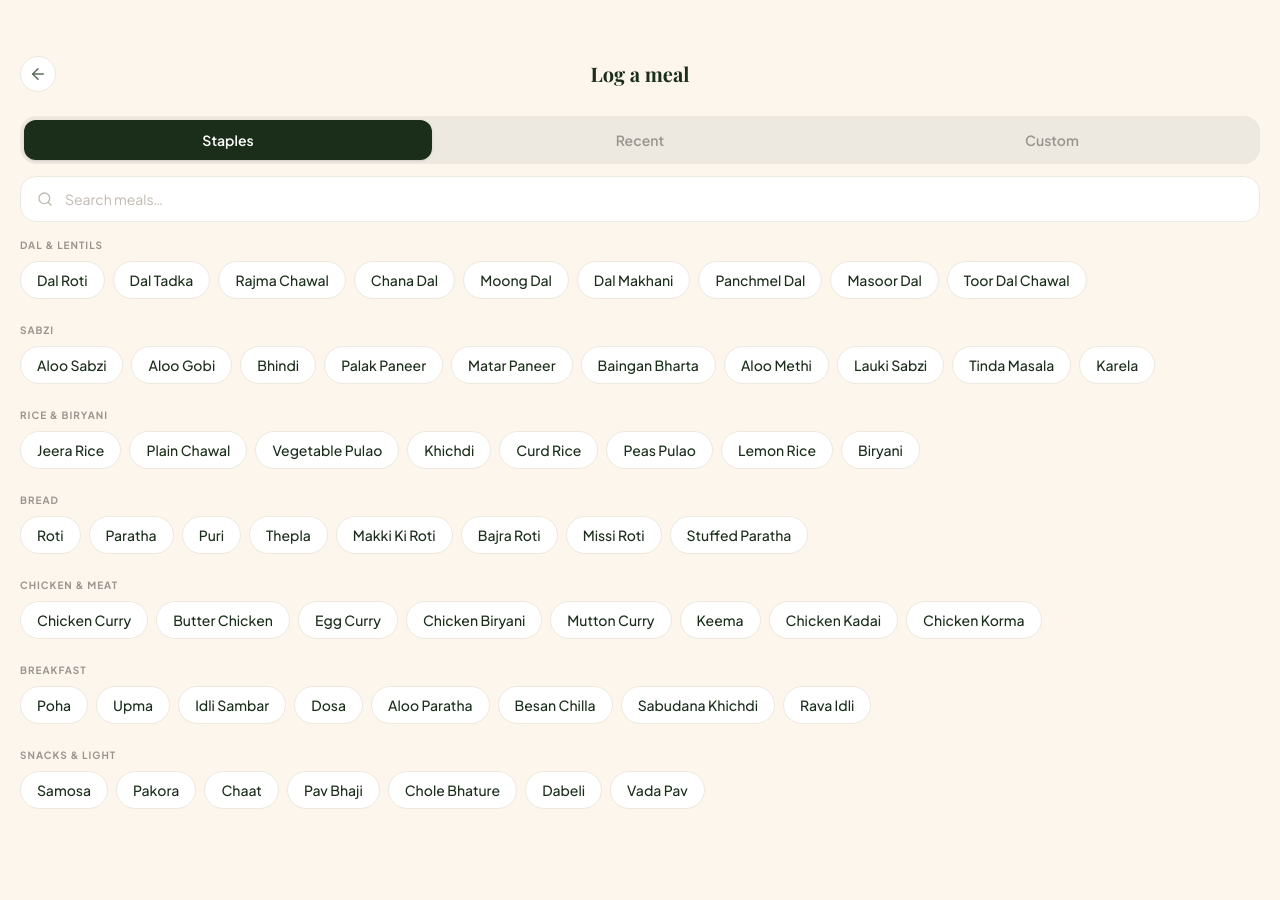
QuickLog › Recent tab shows empty state when no history
Click the button "Recent".
click(640, 140)  # box [436,120,844,160]
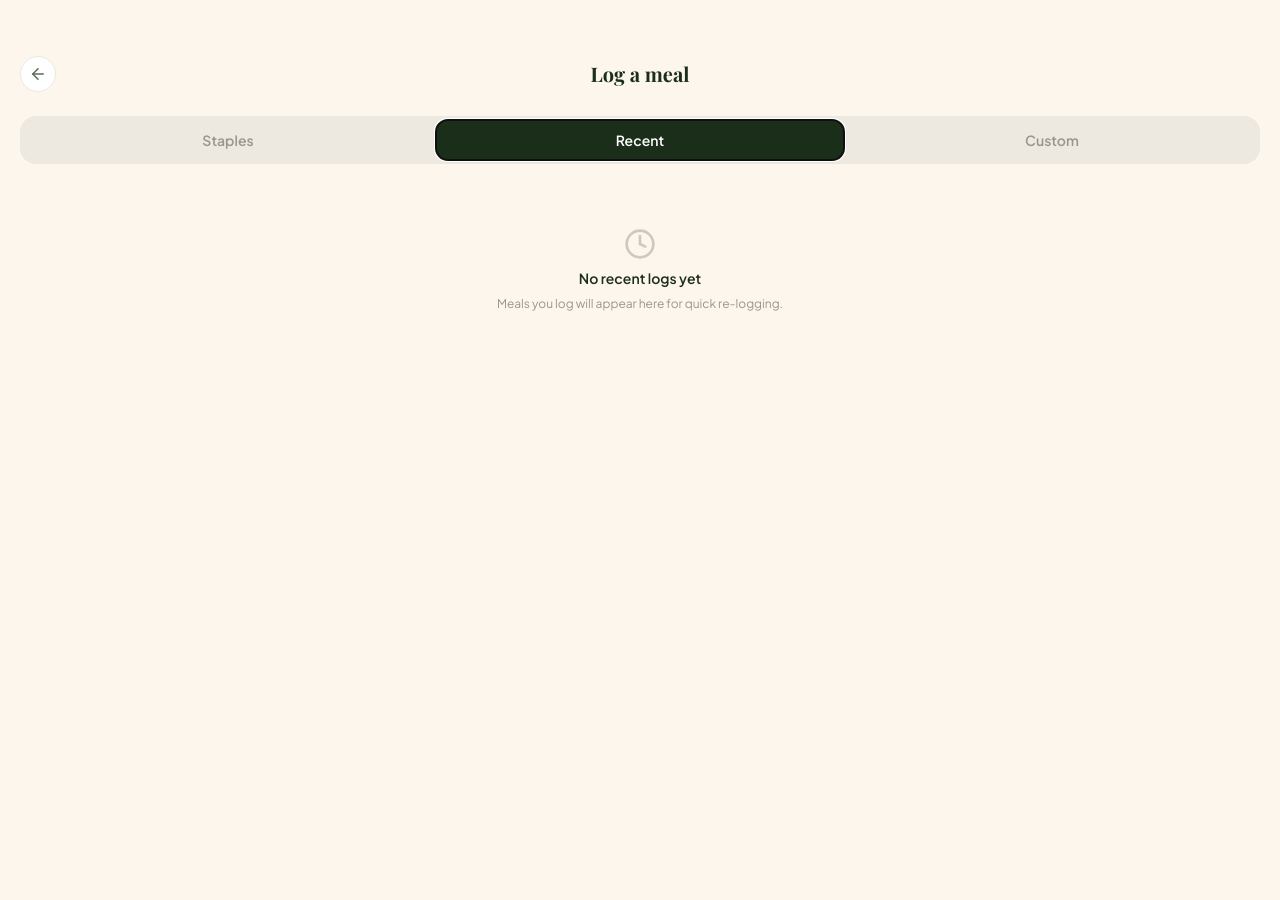
Now the text "No recent logs yet" is shown, box [579,268,701,288]
